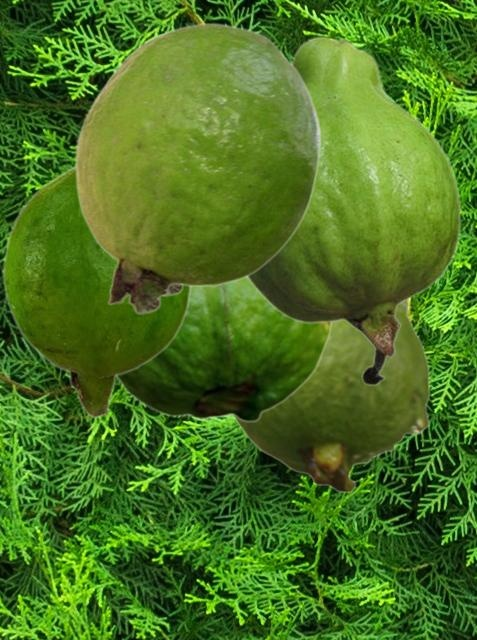guava: (246, 35, 460, 385), (74, 22, 320, 314), (2, 164, 191, 418), (233, 301, 429, 492), (117, 279, 331, 422)
